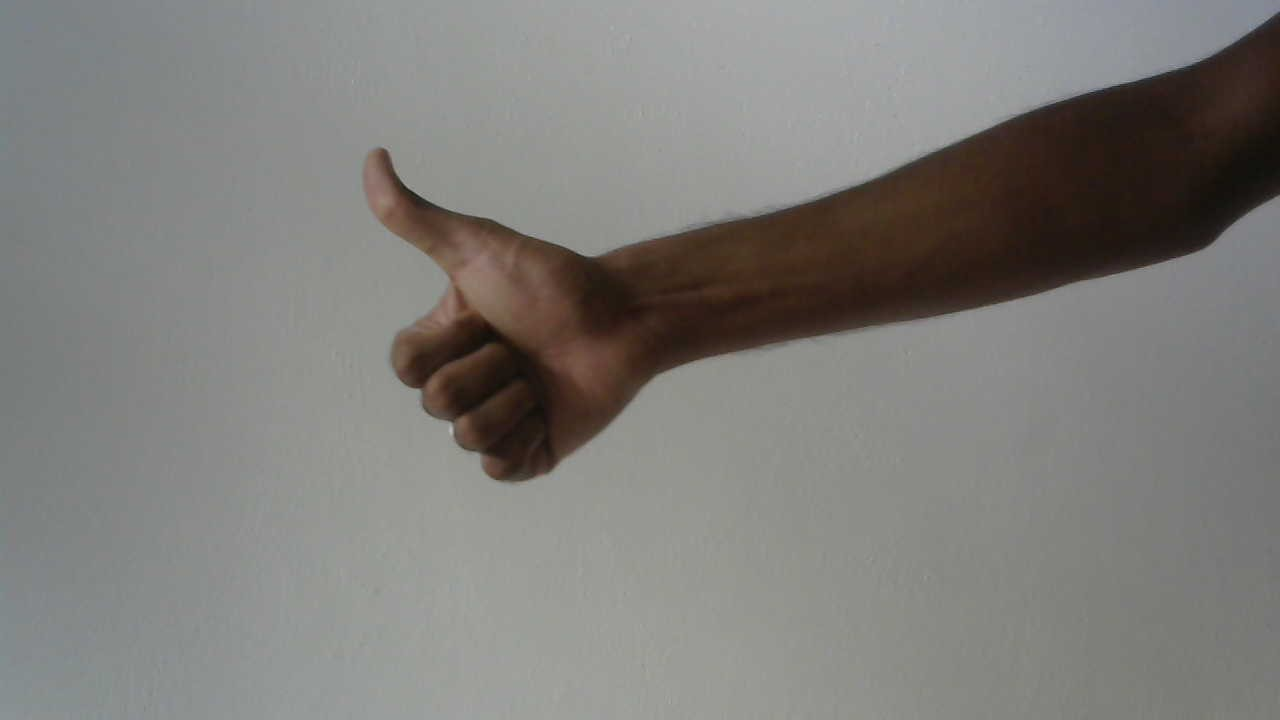thumbsup: (338, 124, 691, 493)
